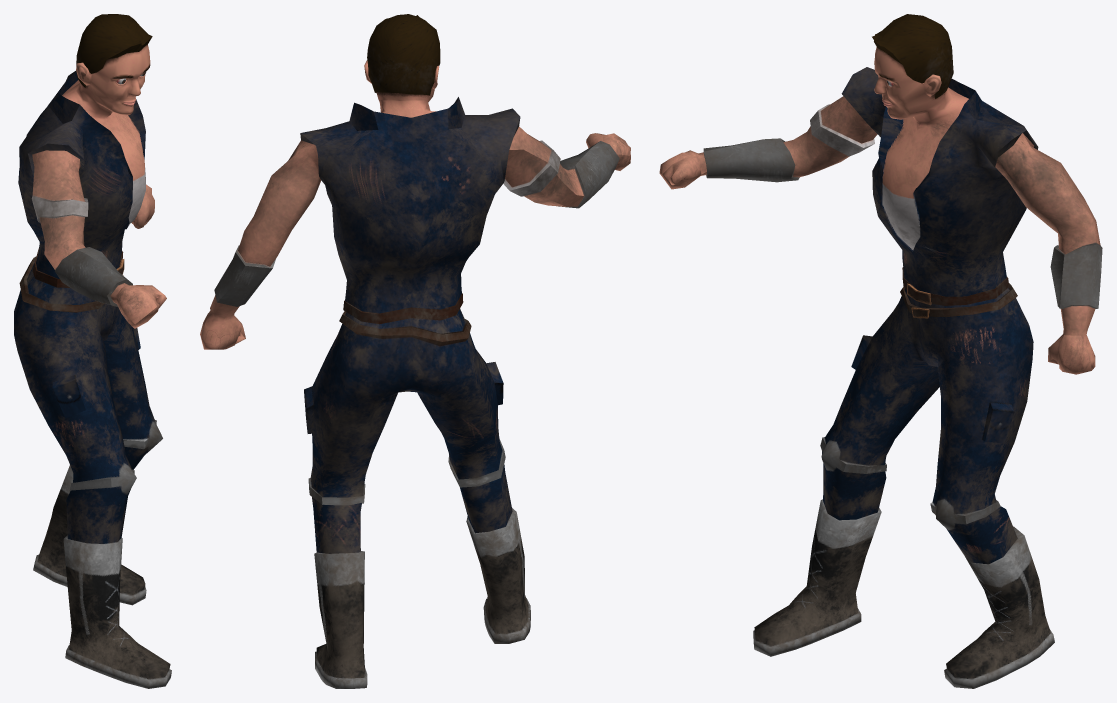
File: Anim_abrir_puerta_ok_jugador.0021.obj
The picture shows the model from 3 angles, left to right: view 1: azimuth 30°, elevation 25°; view 2: azimuth 150°, elevation 25°; view 3: azimuth 270°, elevation 25°; orthographic projection. The views are drawn at different scales.
Visible parts, largest first — view 1: polySurface1; view 2: polySurface1; view 3: polySurface1.
Boxes of the visible parts, box(x1,y1,x2,y2) form: polySurface1: box(14, 14, 171, 688); polySurface1: box(200, 14, 630, 688); polySurface1: box(659, 14, 1102, 688).
Size of the model in its own units: 3.72 by 9.36 by 5.84.
